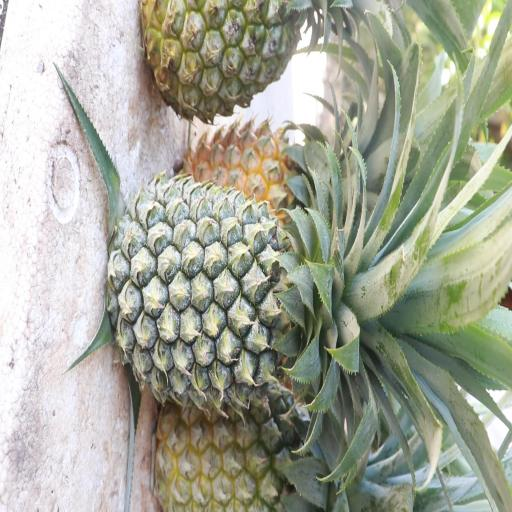------------------------------: (152, 390, 341, 512), (143, 0, 333, 116)
